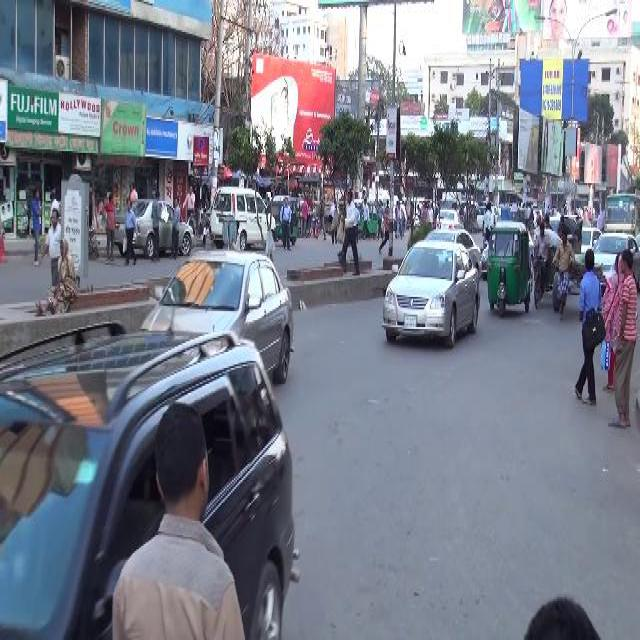17: (484, 218, 532, 316), (270, 194, 298, 247), (352, 200, 384, 237)
20: (554, 227, 580, 321)
5: (7, 318, 301, 638), (139, 248, 293, 339), (380, 237, 480, 351), (110, 192, 196, 260), (595, 228, 639, 258), (432, 204, 470, 233)
6: (531, 220, 553, 310)
9: (212, 181, 274, 249)
Truck: (600, 186, 640, 236)
